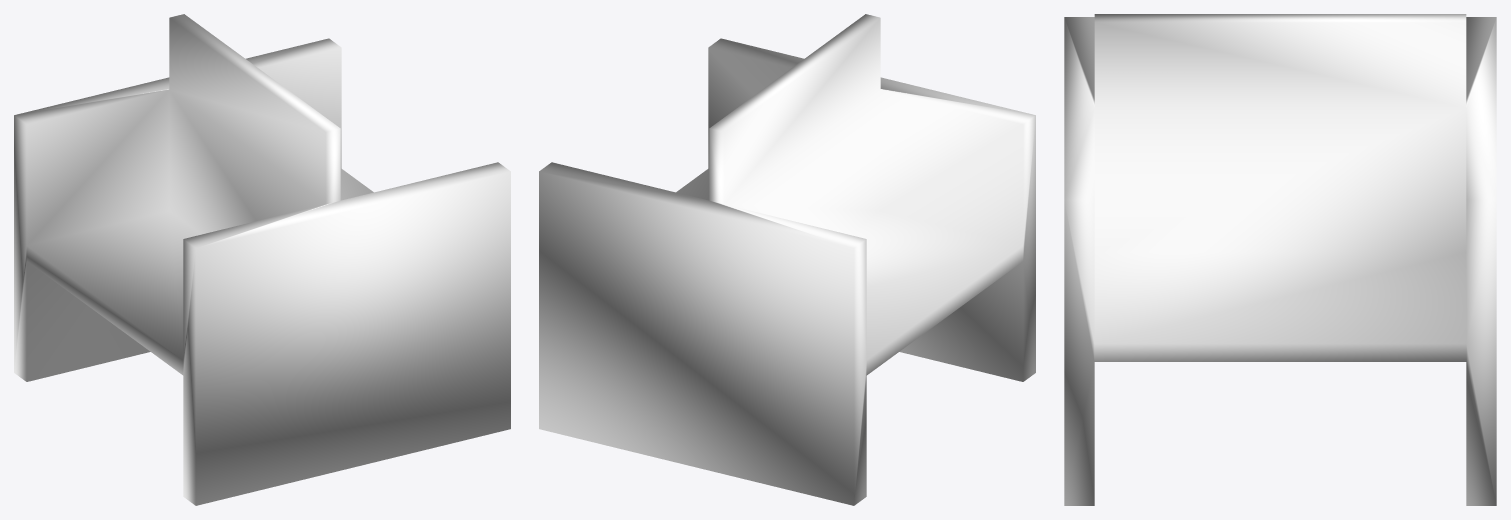
Rendered from Hxinggang.obj.
3 renders of one model, left to right at view 1: azimuth 30°, elevation 25°; view 2: azimuth 150°, elevation 25°; view 3: azimuth 270°, elevation 25°, orthographic. The views are drawn at different scales.
Bounding box in the file's own units: 1 × 1 × 1.
1 material, 1 textured.
